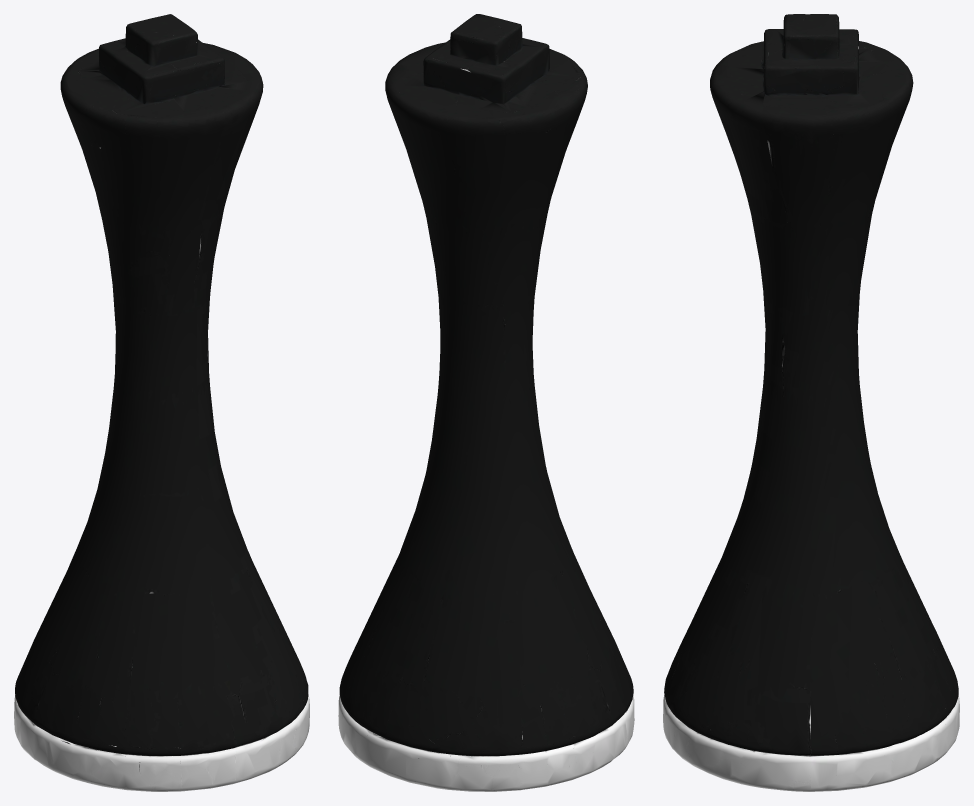
Rendered from king-black.glb.
3 renders of one model, left to right at view 1: azimuth 30°, elevation 25°; view 2: azimuth 150°, elevation 25°; view 3: azimuth 270°, elevation 25°, orthographic.
Size of the model in its own units: 0.5887 by 1.55 by 0.5889.
1 material, 1 textured.
